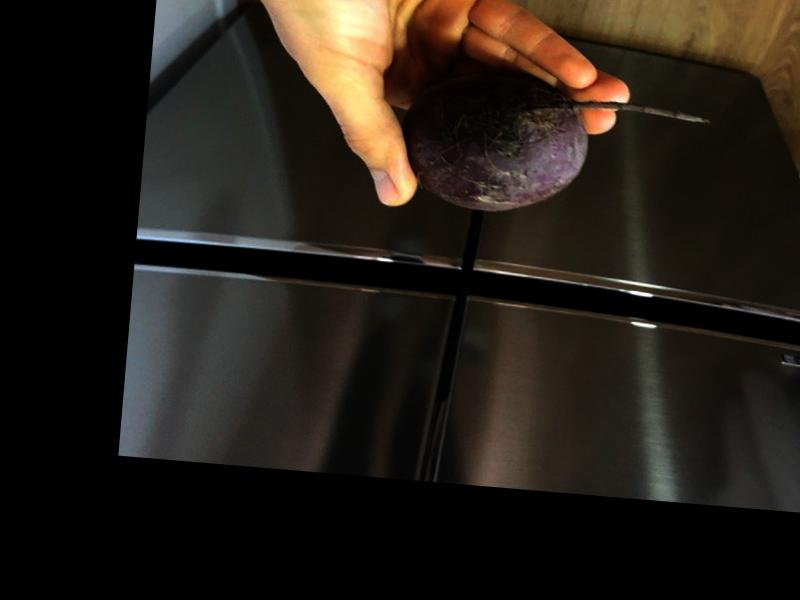Beet: (398, 64, 713, 230)
